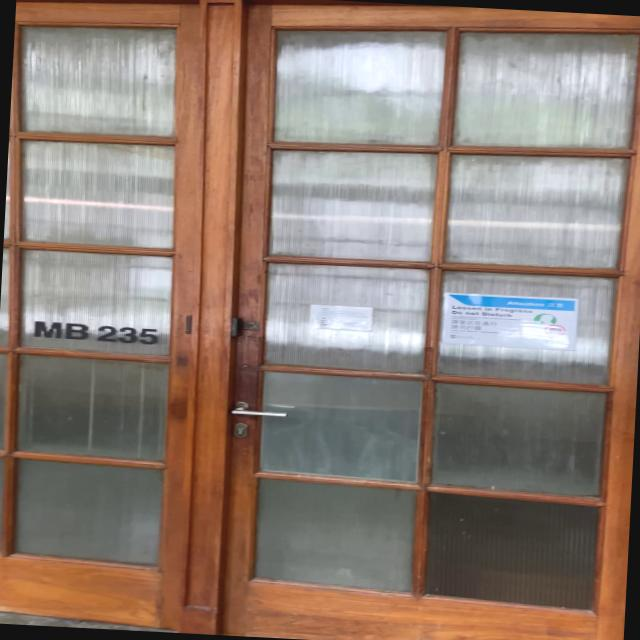room235Window: (30, 316, 166, 349)
